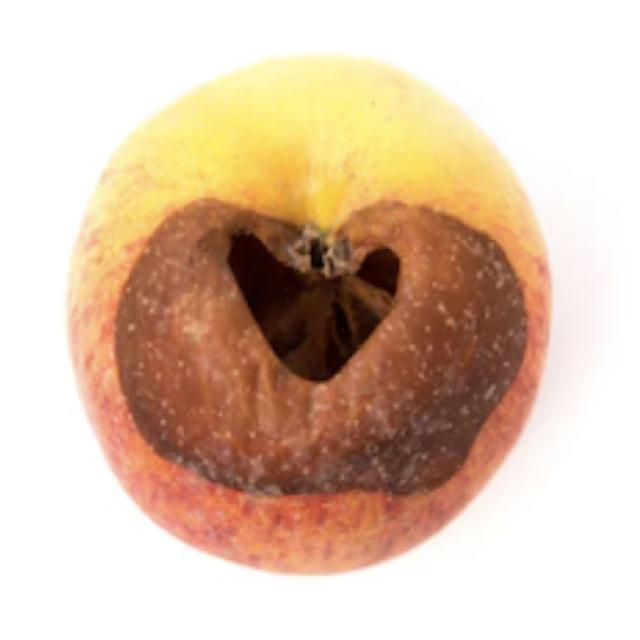Rotten: (64, 55, 554, 573)
